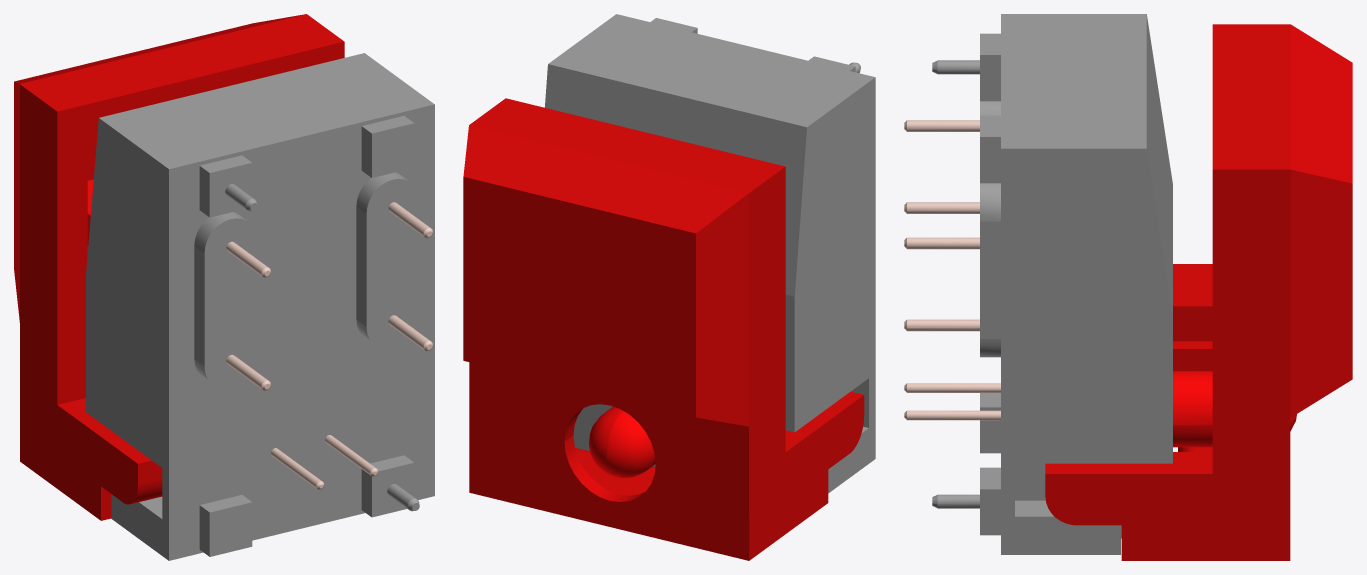
Rendered from ada-5499.glb.
3 views of the same model, side by side, from view 1: azimuth 30°, elevation 25°; view 2: azimuth 150°, elevation 25°; view 3: azimuth 270°, elevation 25° (orthographic). The views are drawn at different scales.
Visible parts, largest first — view 1: 0.3333333333333333_0.3333333333333333_0.3333333333333333_0, 0.75_0_0_0, 0.8333333333333334_0.5833333333333334_0.5833333333333334_0; view 2: 0.75_0_0_0, 0.3333333333333333_0.3333333333333333_0.3333333333333333_0, 1_0_0_0; view 3: 0.3333333333333333_0.3333333333333333_0.3333333333333333_0, 0.75_0_0_0, 0.8333333333333334_0.5833333333333334_0.5833333333333334_0, 1_0_0_0.
Boxes of the visible parts, <box> form: 0.3333333333333333_0.3333333333333333_0.3333333333333333_0: <box>86,53,434,560</box>; 0.75_0_0_0: <box>14,14,344,520</box>; 0.8333333333333334_0.5833333333333334_0.5833333333333334_0: <box>226,202,432,489</box>; 0.75_0_0_0: <box>463,98,864,560</box>; 0.3333333333333333_0.3333333333333333_0.3333333333333333_0: <box>545,14,875,493</box>; 1_0_0_0: <box>589,406,655,478</box>; 0.3333333333333333_0.3333333333333333_0.3333333333333333_0: <box>932,14,1172,554</box>; 0.75_0_0_0: <box>1045,24,1352,560</box>; 0.8333333333333334_0.5833333333333334_0.5833333333333334_0: <box>904,120,1000,420</box>; 1_0_0_0: <box>1173,371,1296,447</box>.
Bounding box in the file's own units: 1.35 × 1.76 × 1.76.
